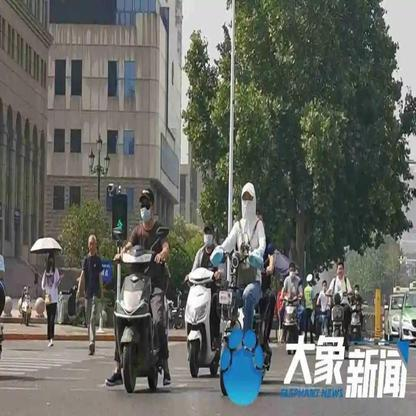target: (102, 187, 176, 392), (220, 179, 282, 394), (186, 221, 220, 378)
